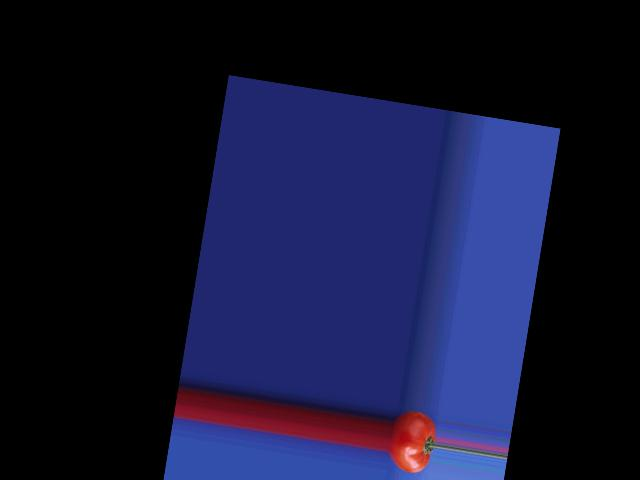tomato: (385, 407, 439, 475)
